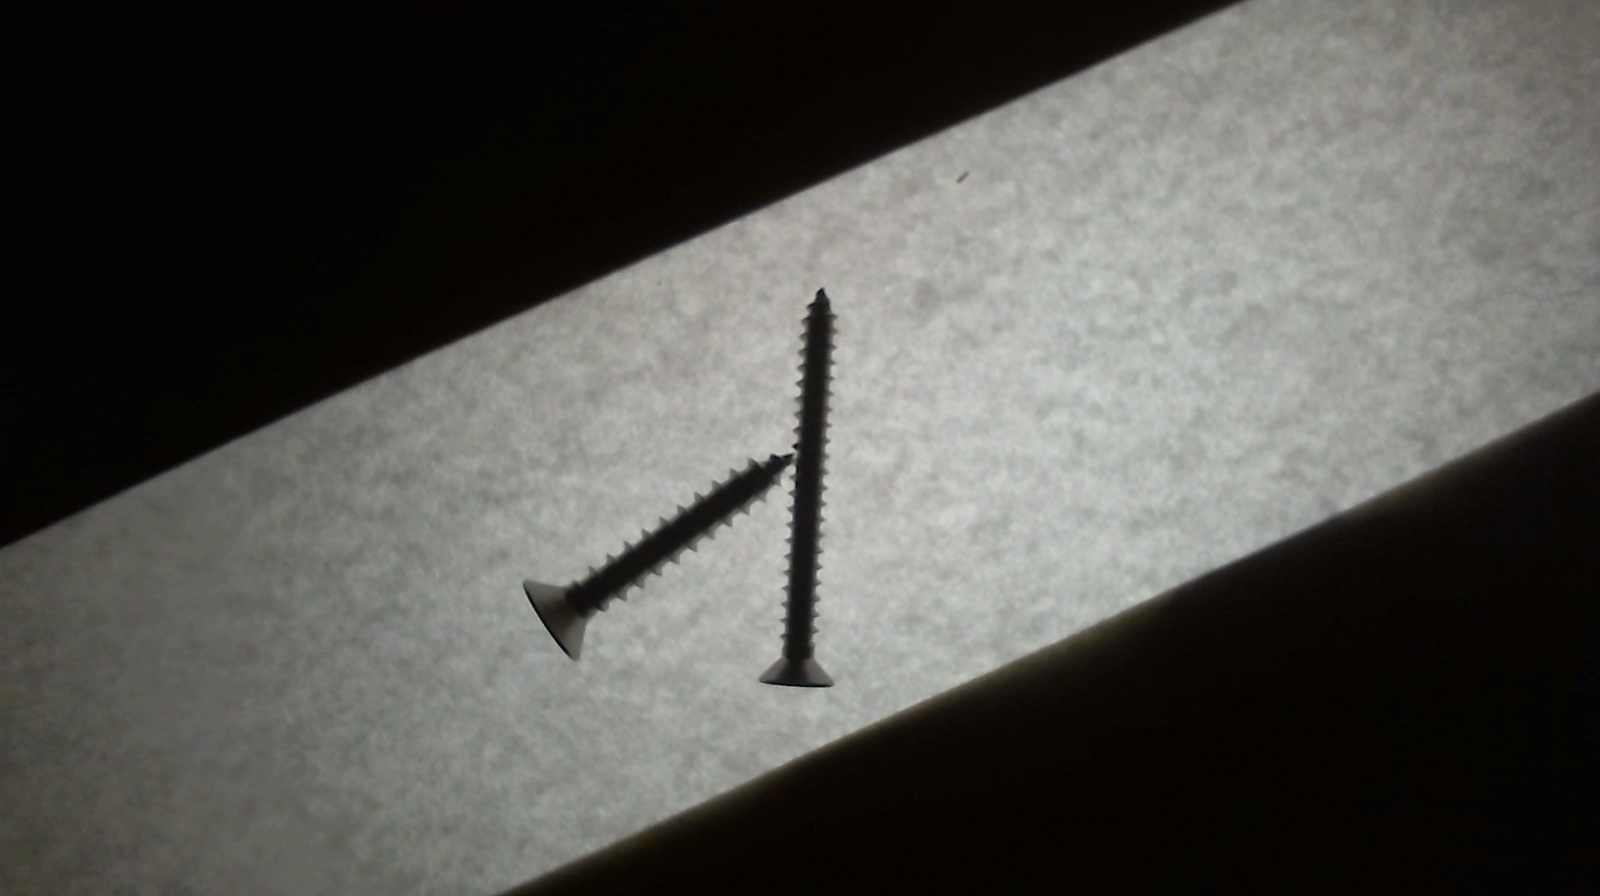S001: (503, 444, 802, 667)
S002: (753, 270, 841, 692)
